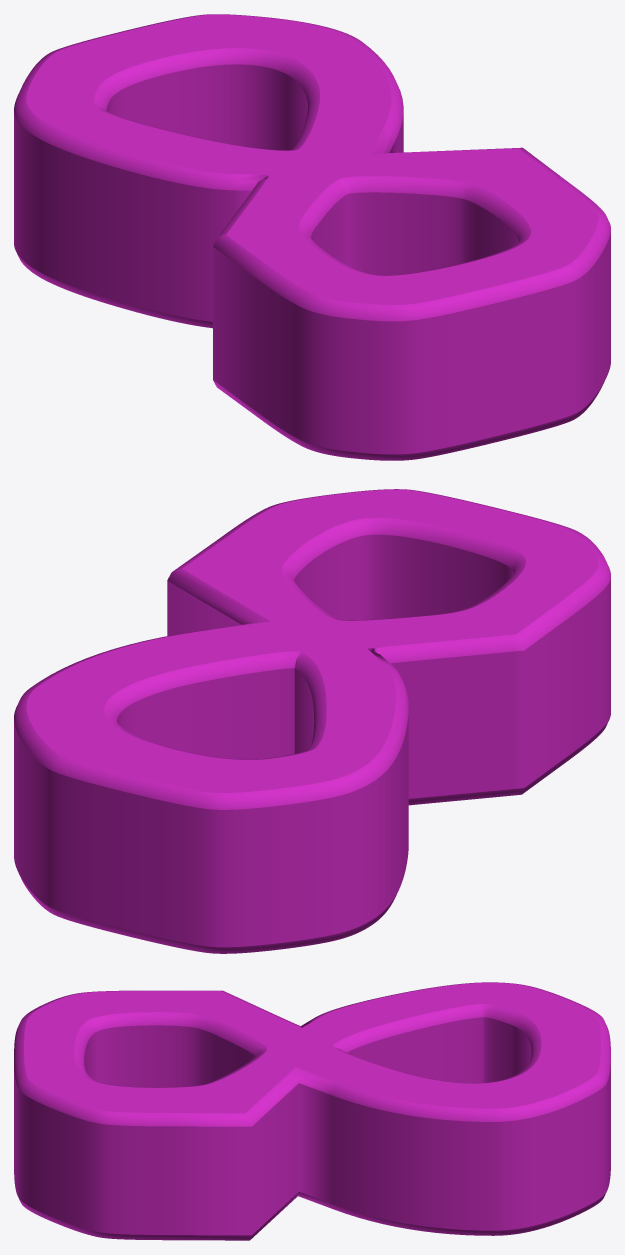
File: Number_8.fbx
3 views of the same model, one above another, from view 1: azimuth 30°, elevation 25°; view 2: azimuth 150°, elevation 25°; view 3: azimuth 270°, elevation 25° (orthographic). The views are drawn at different scales.
Visible parts, largest first — view 1: Number_8; view 2: Number_8; view 3: Number_8.
Boxes of the visible parts, bbox=[...] form: Number_8: bbox=[14, 14, 610, 460]; Number_8: bbox=[14, 489, 610, 953]; Number_8: bbox=[14, 982, 610, 1240].
Bounding box in the file's own units: 0.3298 × 0.14 × 0.5974.
